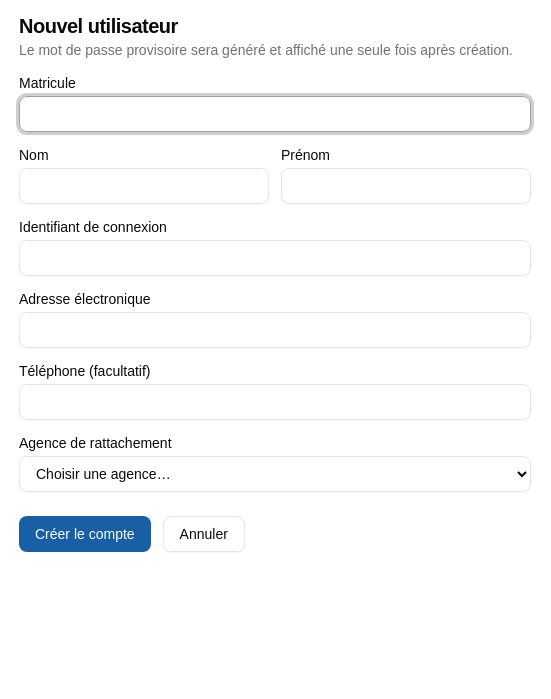
Test case: PageCreationUtilisateur › valide la présence des champs sans appeler le serveur
Click the button "Créer le compte": (85, 534) [19, 516, 151, 552]
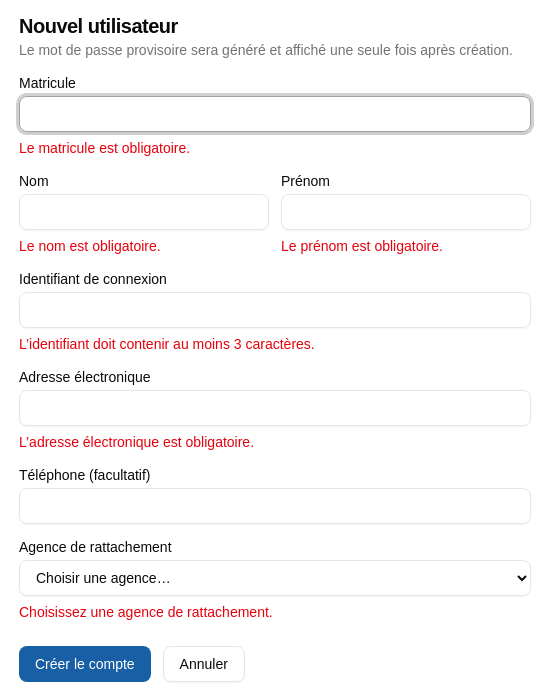
Result: the text "Le matricule est obligatoire." is shown at [19, 140, 190, 156]
